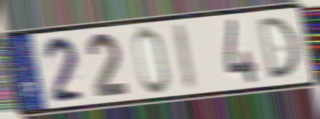0: (130, 24, 172, 97)
2: (43, 33, 89, 108), (86, 30, 132, 101)
4: (224, 17, 259, 87)
D: (255, 14, 302, 82)
I: (170, 21, 199, 93)
